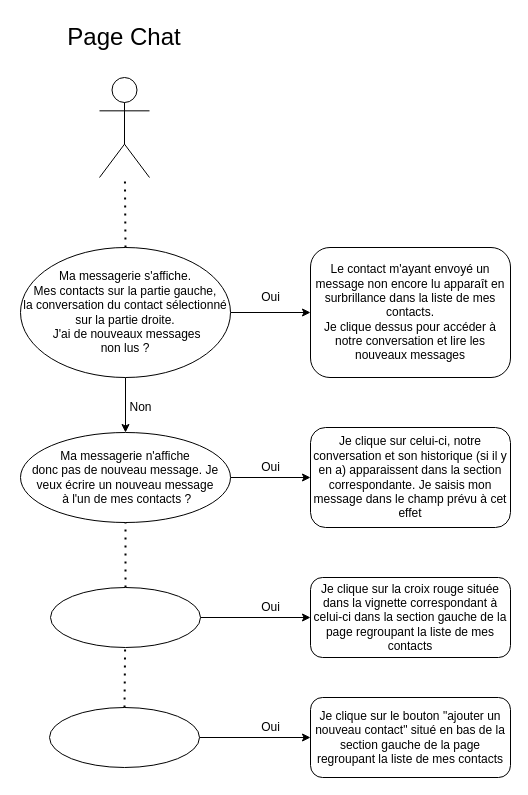
The diagram is 528 pixels wide and 795 high, and some of its shapes have lost their labels. The centre of each missing label's shape, as x and y in pixels:
Je vaux ajouter un nouveau contact?: the point at 124,737
Je vaux supprimer l'un de mes contacts?: the point at 125,617
Utilisateur élève ou professeur connecté: the point at 124,127
